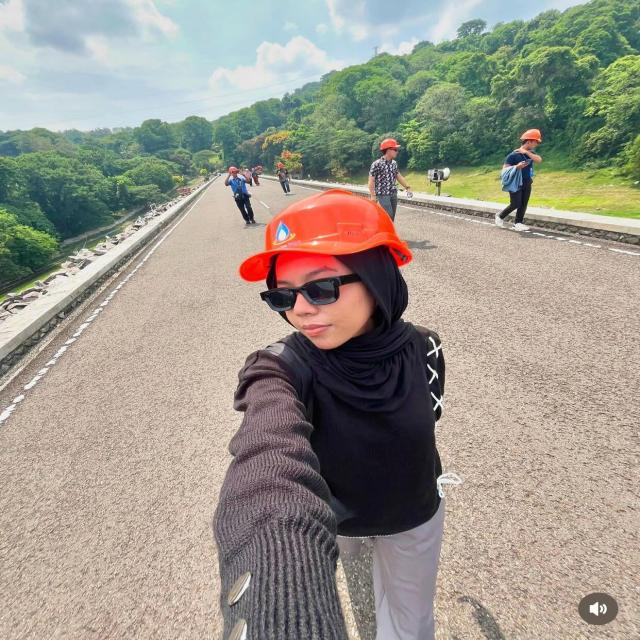safetyhelmet: (236, 180, 409, 349), (520, 129, 541, 142), (381, 139, 401, 150), (229, 167, 238, 172), (278, 163, 283, 167)
